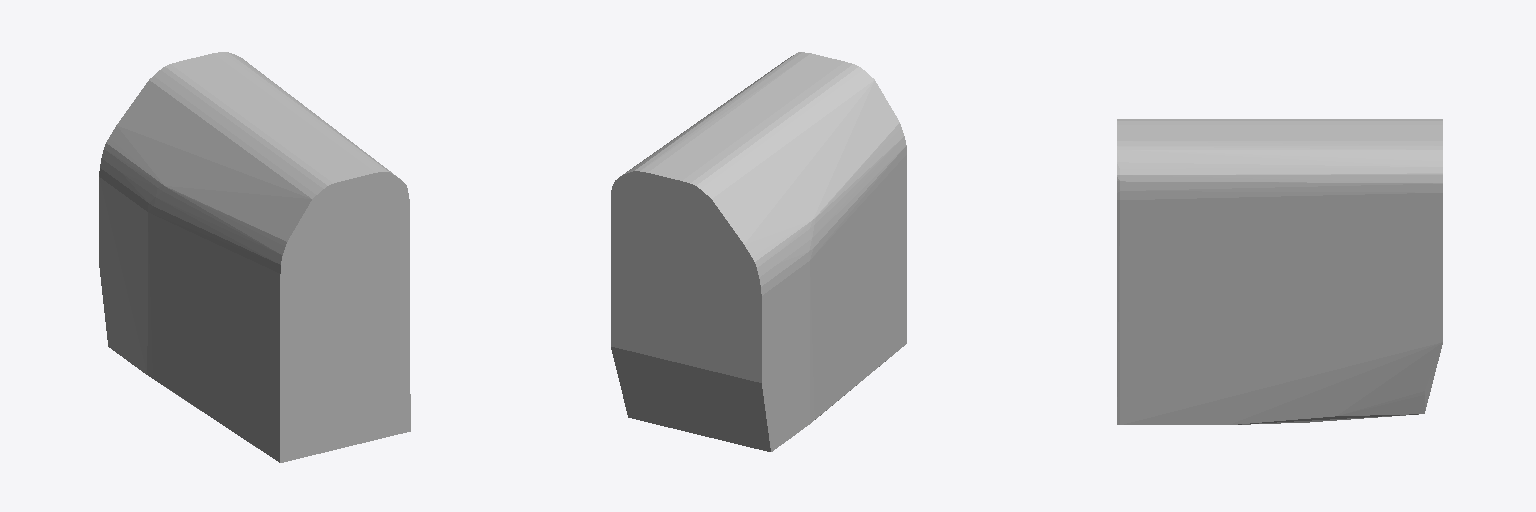
Rendered from Toaster_24_collision_6.obj.
3 renders of one model, left to right at view 1: azimuth 30°, elevation 25°; view 2: azimuth 150°, elevation 25°; view 3: azimuth 270°, elevation 25°, orthographic.
Bounding box in the file's own units: 0.0639 × 0.1079 × 0.1195.